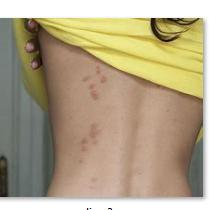Lice: (83, 73, 96, 105), (91, 120, 102, 145), (76, 138, 92, 153), (101, 73, 109, 90), (94, 62, 102, 77)
